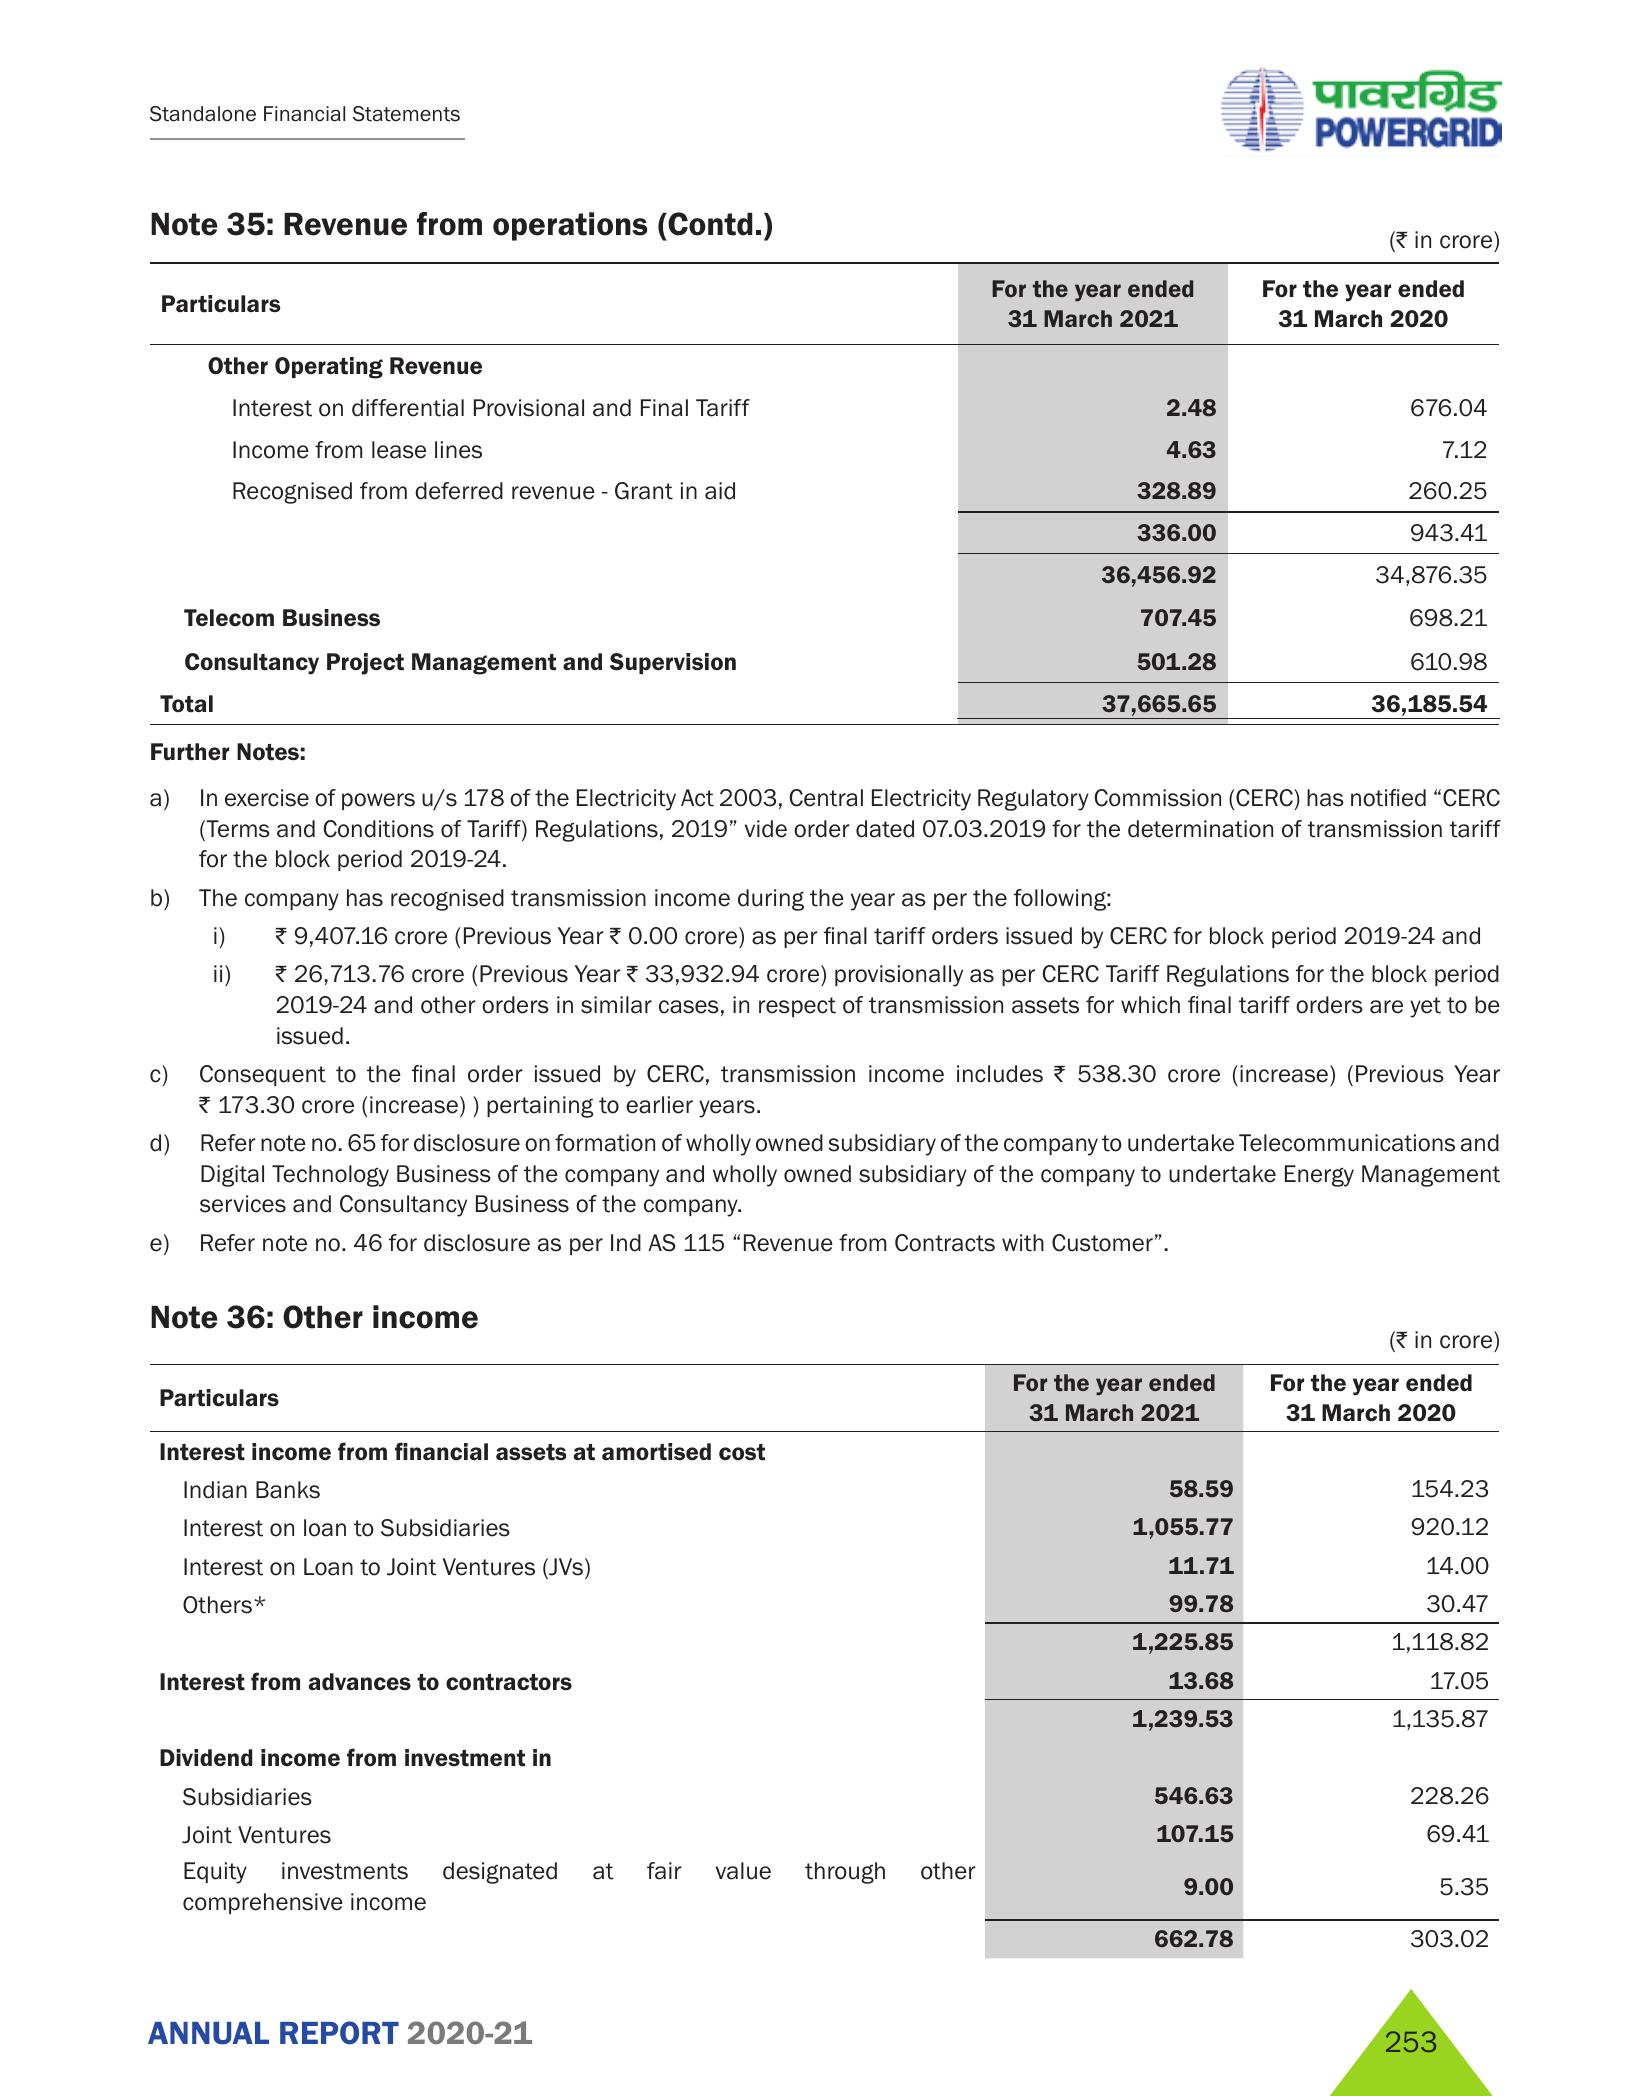Footer: (0, 1974, 1650, 2096)
Header: (0, 0, 1650, 172)
Table: (129, 1353, 1521, 1962), (155, 260, 1521, 720)
